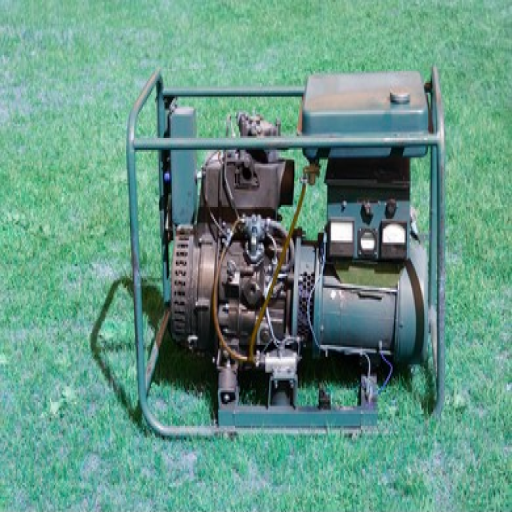portable_generator: (126, 68, 448, 430)
